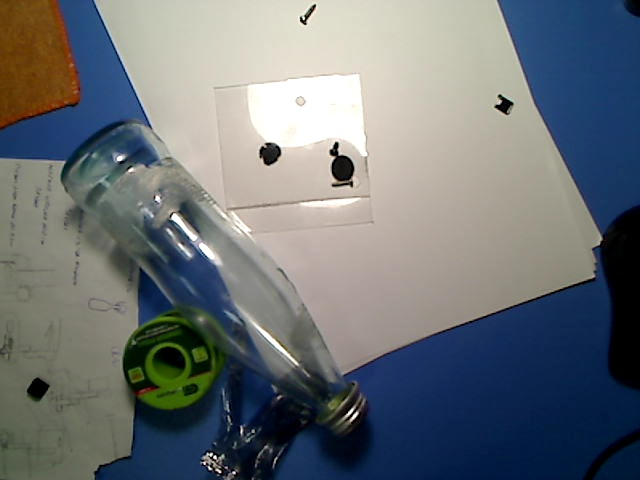bottle: (60, 119, 371, 438)
